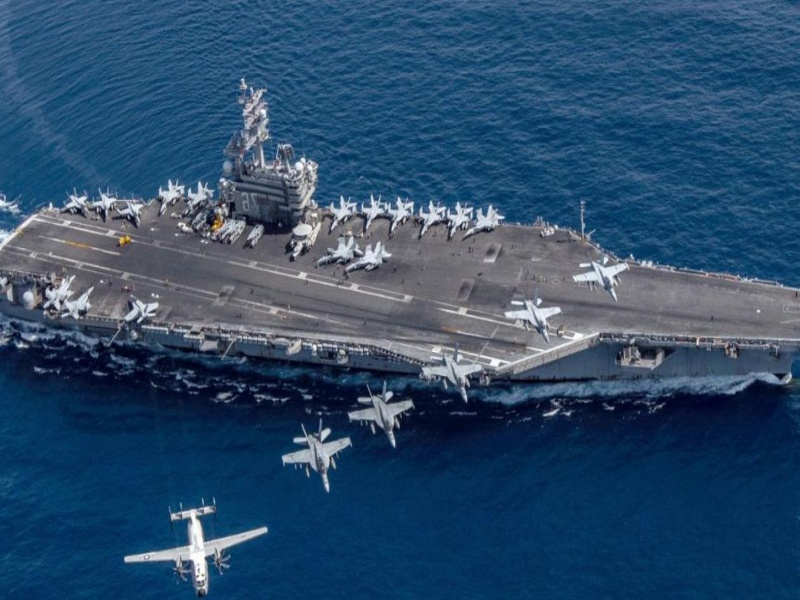carrier: (24, 146, 797, 419)
